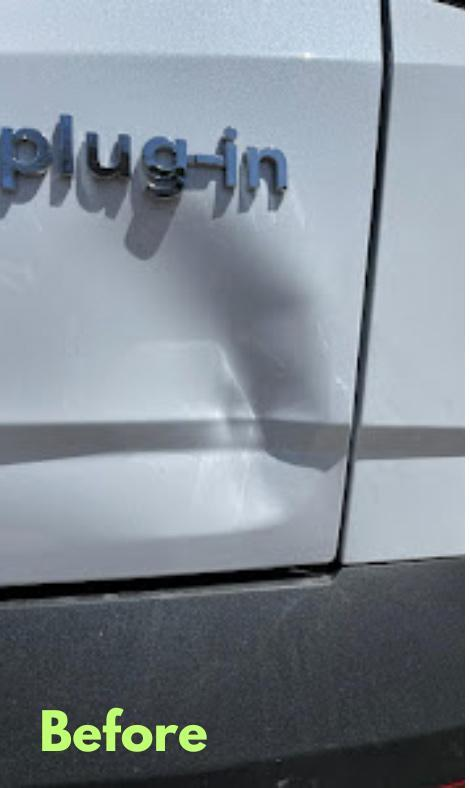dent: (53, 208, 376, 577)
